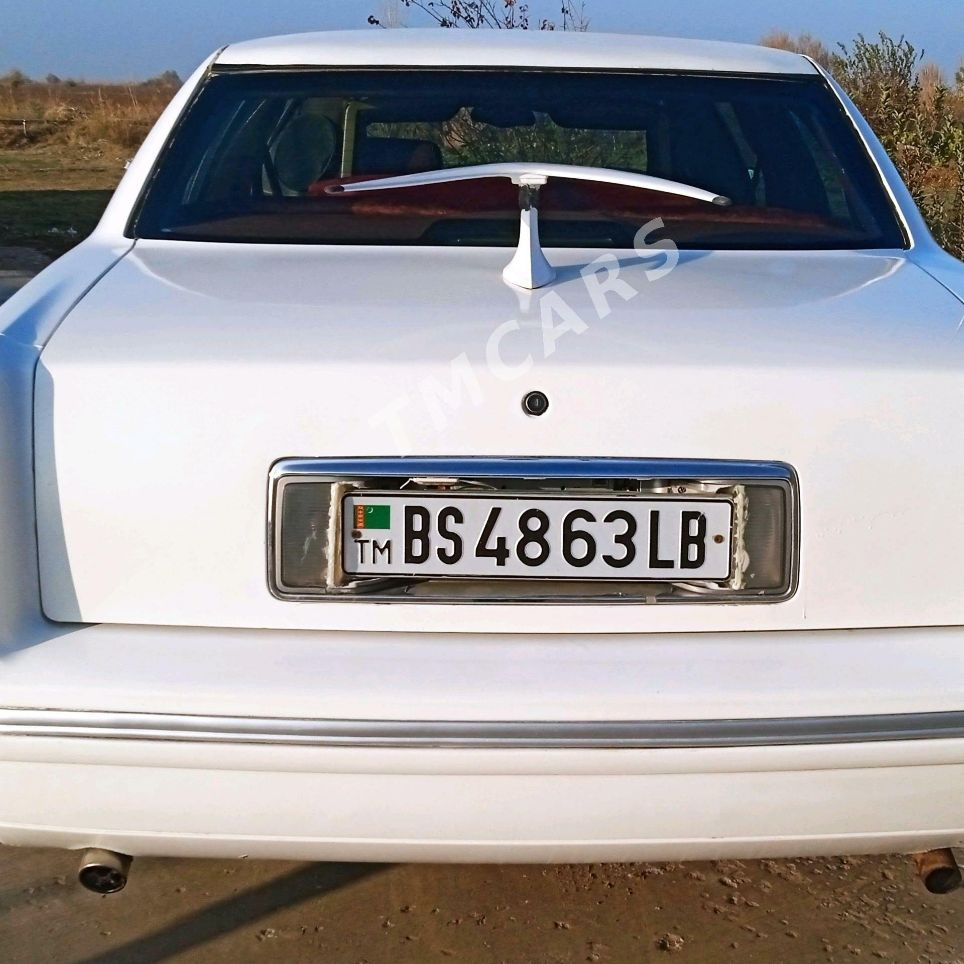license plate: (341, 497, 730, 578)
truck: (2, 29, 963, 856)
